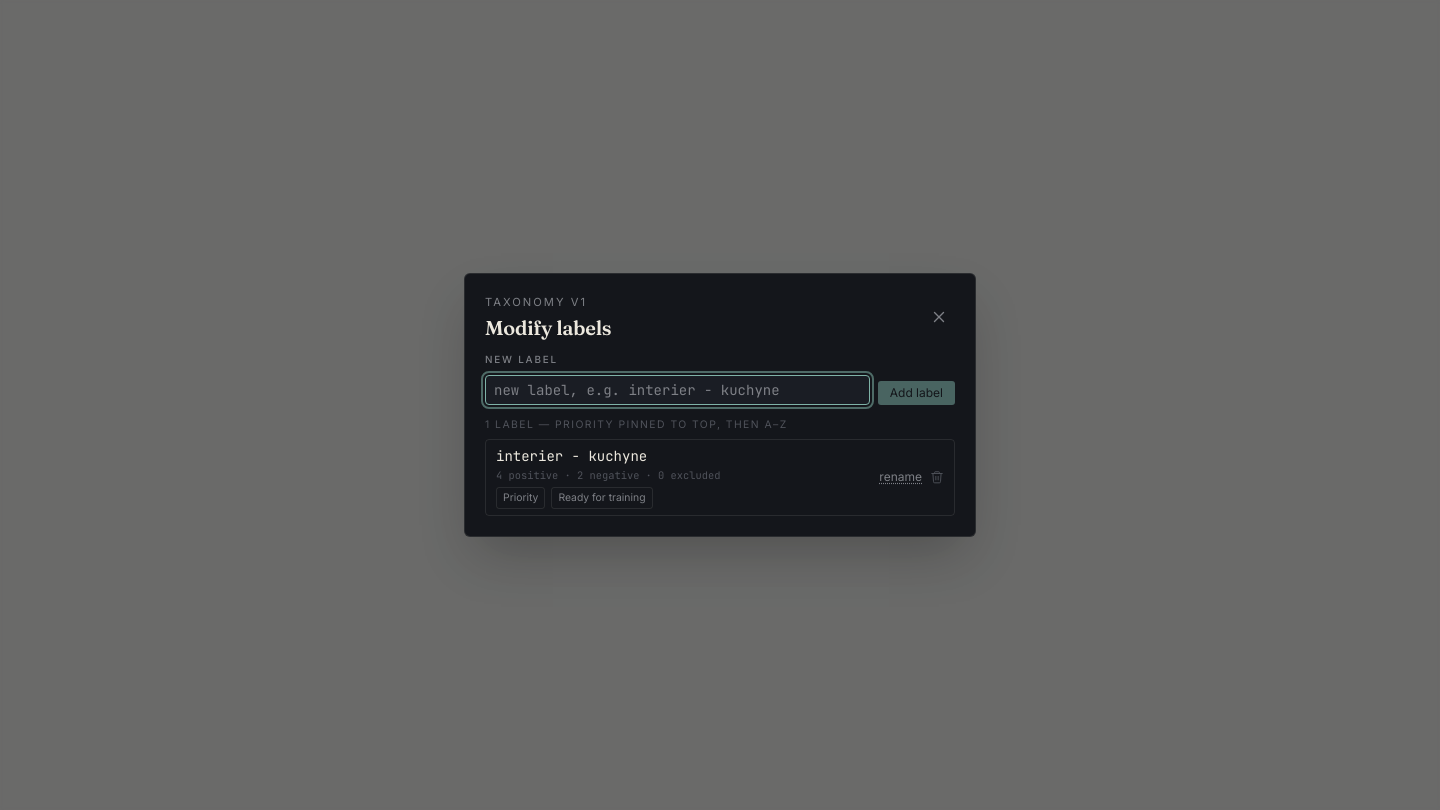
Test: <TaxonomyManageModal> › Escape in the rename field reverts the draft and leaves the dialog open
Click the button "rename" at [901, 477], box [879, 469, 922, 485]
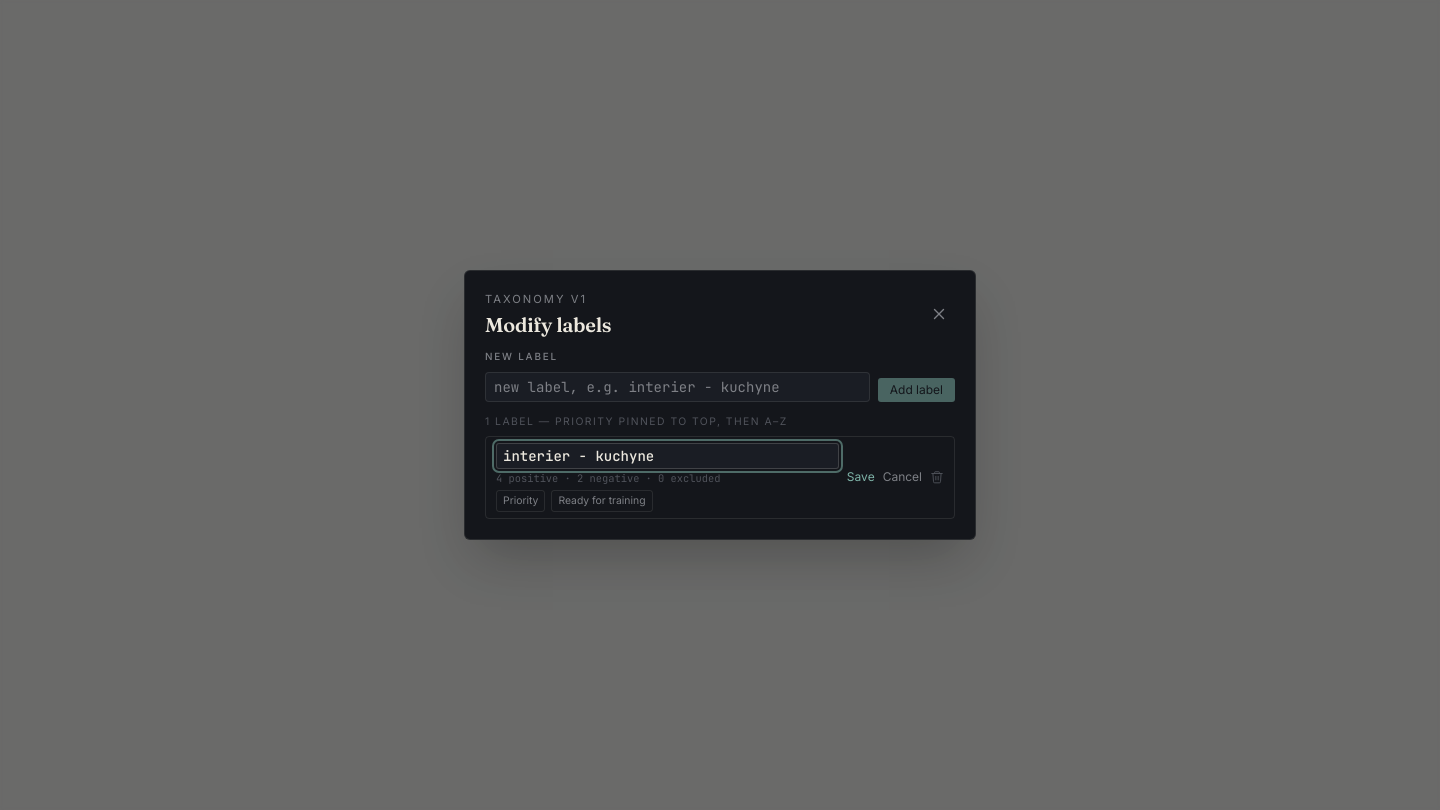
Replace the text in the field named "New tag label" with "something else" at [667, 456], box [496, 442, 839, 468]
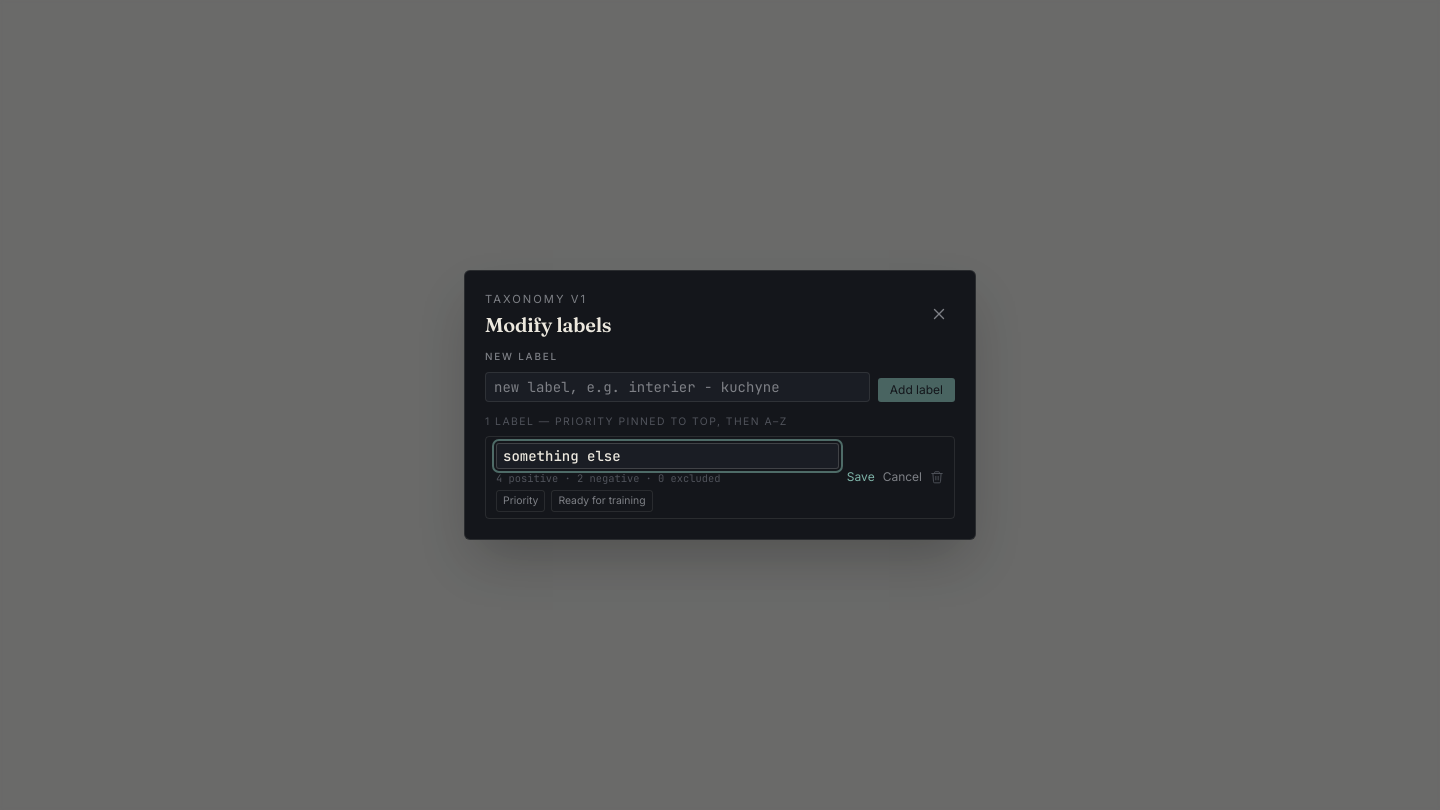
Press Escape in the field named "New tag label", box [496, 442, 839, 468]
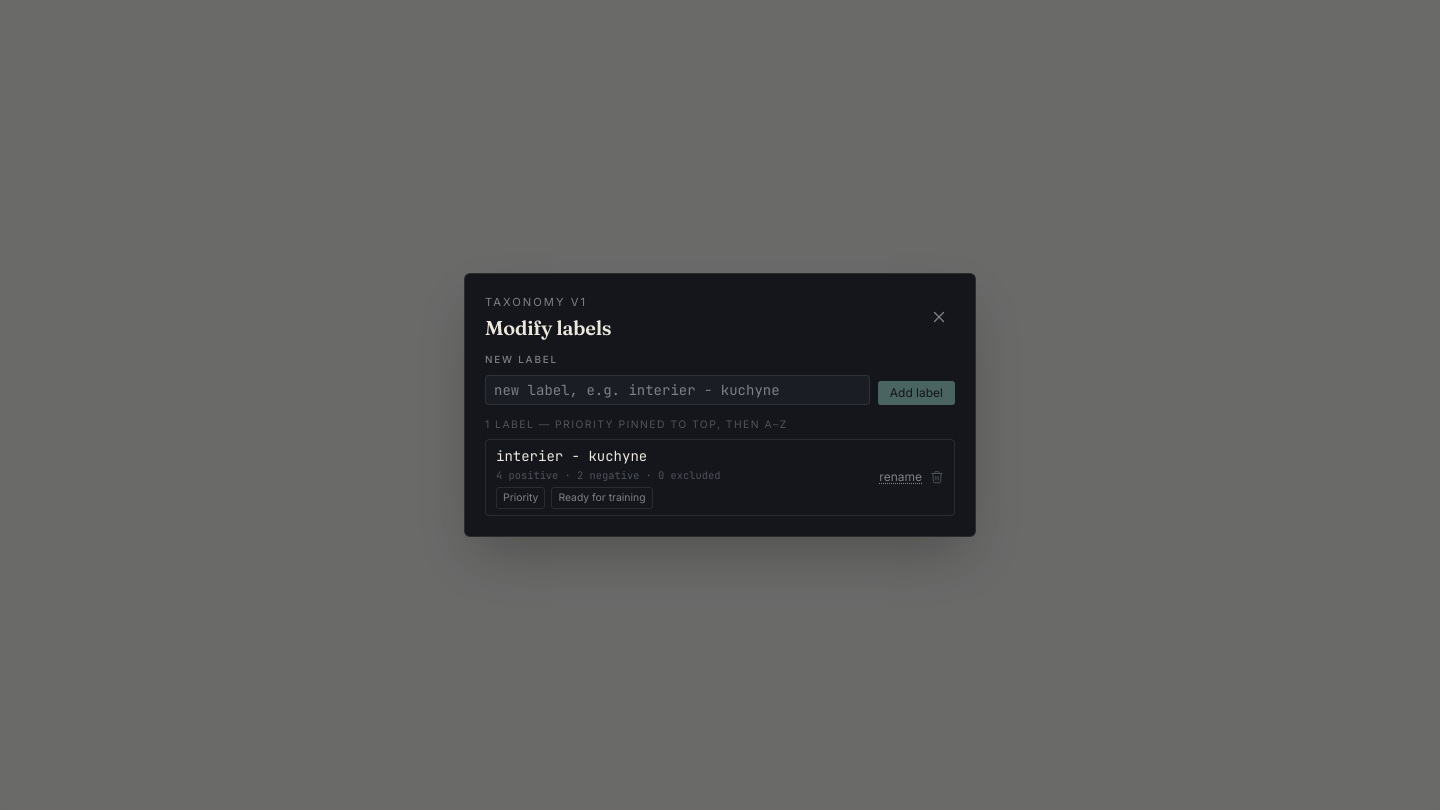
Expected: the text "interier - kuchyne" is shown, [496, 446, 647, 464]
